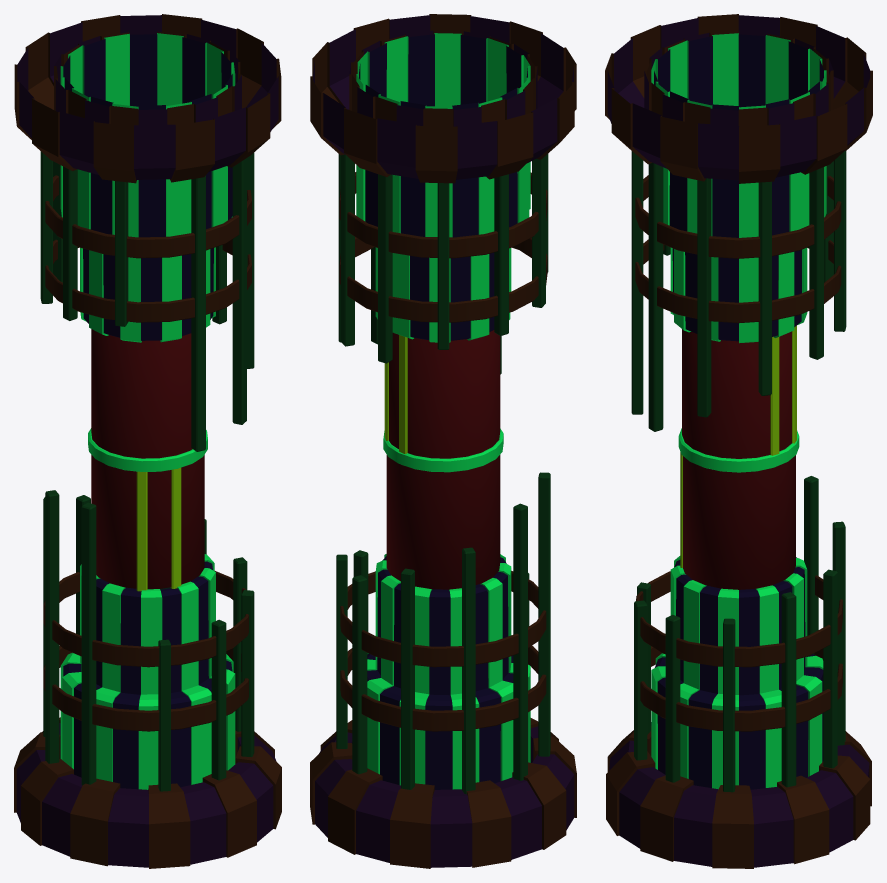
File: MC_Reacteur_Noyau.fbx
3 renders of one model, left to right at view 1: azimuth 30°, elevation 25°; view 2: azimuth 150°, elevation 25°; view 3: azimuth 270°, elevation 25°, orthographic.
Visible parts, largest first — view 1: MC_Reacteur_Noyau; view 2: MC_Reacteur_Noyau; view 3: MC_Reacteur_Noyau.
Part boxes in pixels (x1,y1,x2,y2): MC_Reacteur_Noyau: [14, 14, 281, 868]; MC_Reacteur_Noyau: [310, 14, 576, 868]; MC_Reacteur_Noyau: [605, 14, 872, 868].
Bounding box in the file's own units: 199 × 607 × 199.
